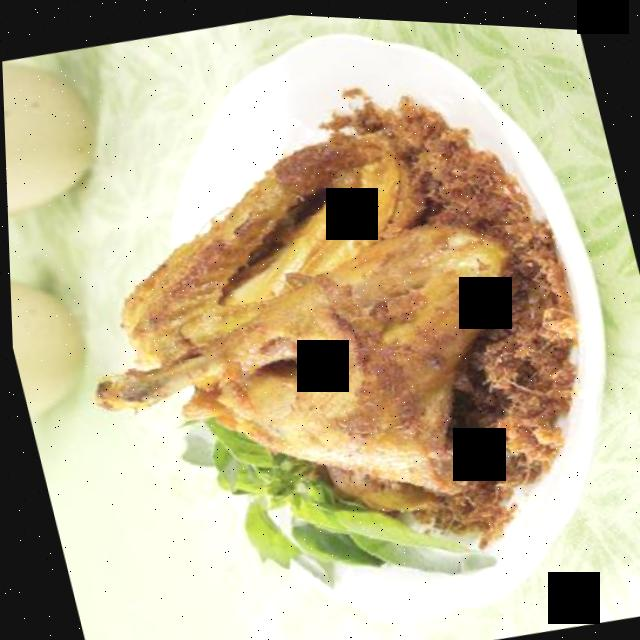Frango: (106, 167, 509, 493)
